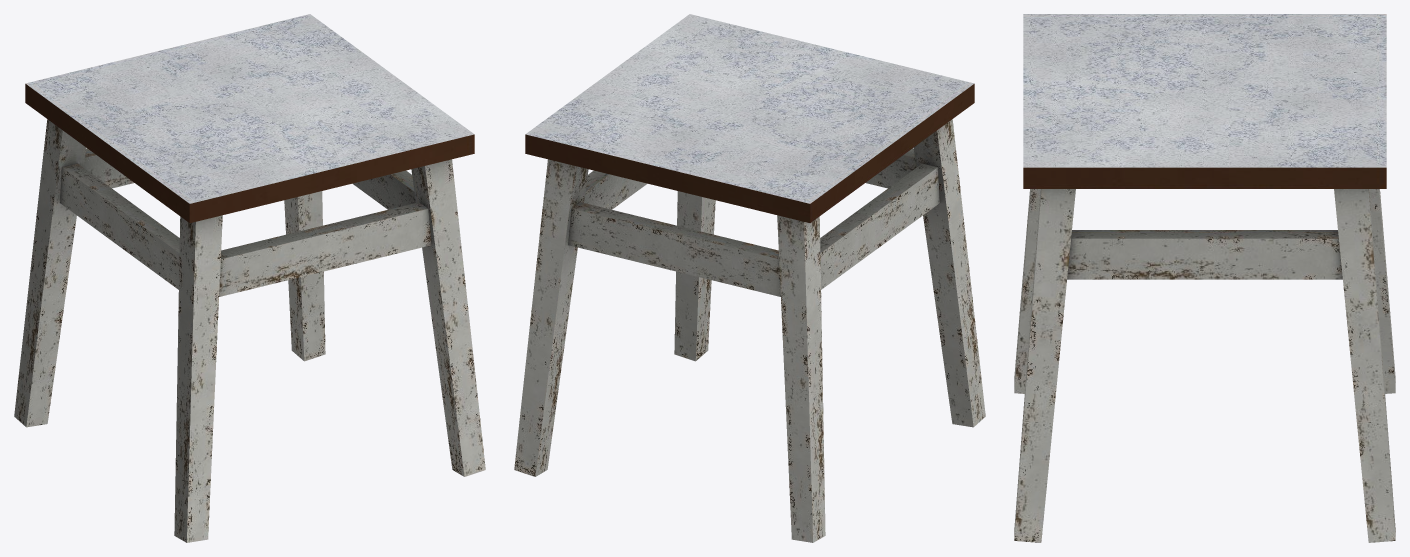
Rendered from stool_marble_web.glb.
3 renders of one model, left to right at view 1: azimuth 30°, elevation 25°; view 2: azimuth 150°, elevation 25°; view 3: azimuth 270°, elevation 25°, orthographic. The views are drawn at different scales.
Parts seen in each view (by area): view 1: StoolMarble_Mesh; view 2: StoolMarble_Mesh; view 3: StoolMarble_Mesh.
Boxes of the visible parts, x1=… form: StoolMarble_Mesh: x1=14, y1=14, x2=485, y2=542; StoolMarble_Mesh: x1=514, y1=14, x2=985, y2=542; StoolMarble_Mesh: x1=1014, y1=14, x2=1395, y2=542.
Bounding box in the file's own units: 0.4201 × 0.4535 × 0.4199.
1 material, 1 textured.
